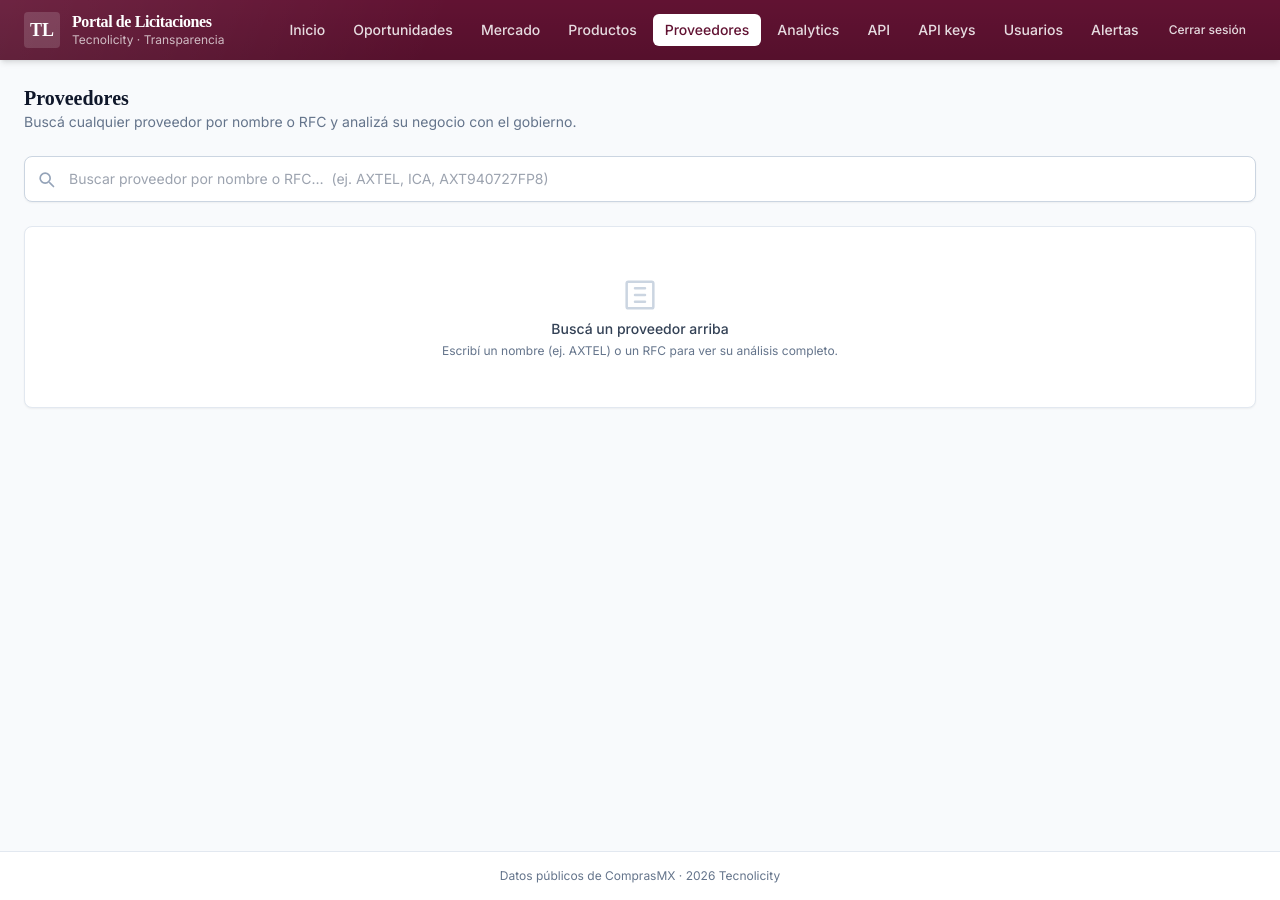
Test: SuppliersPage › searches and renders the full profile dashboard when a supplier is picked
# Type enough to pass the min-length gate + debounce.
Step 1. Type "axtel" into the field with placeholder "Buscar proveedor por nombre o RFC" → (640, 179), box 24,156 -> 1256,202
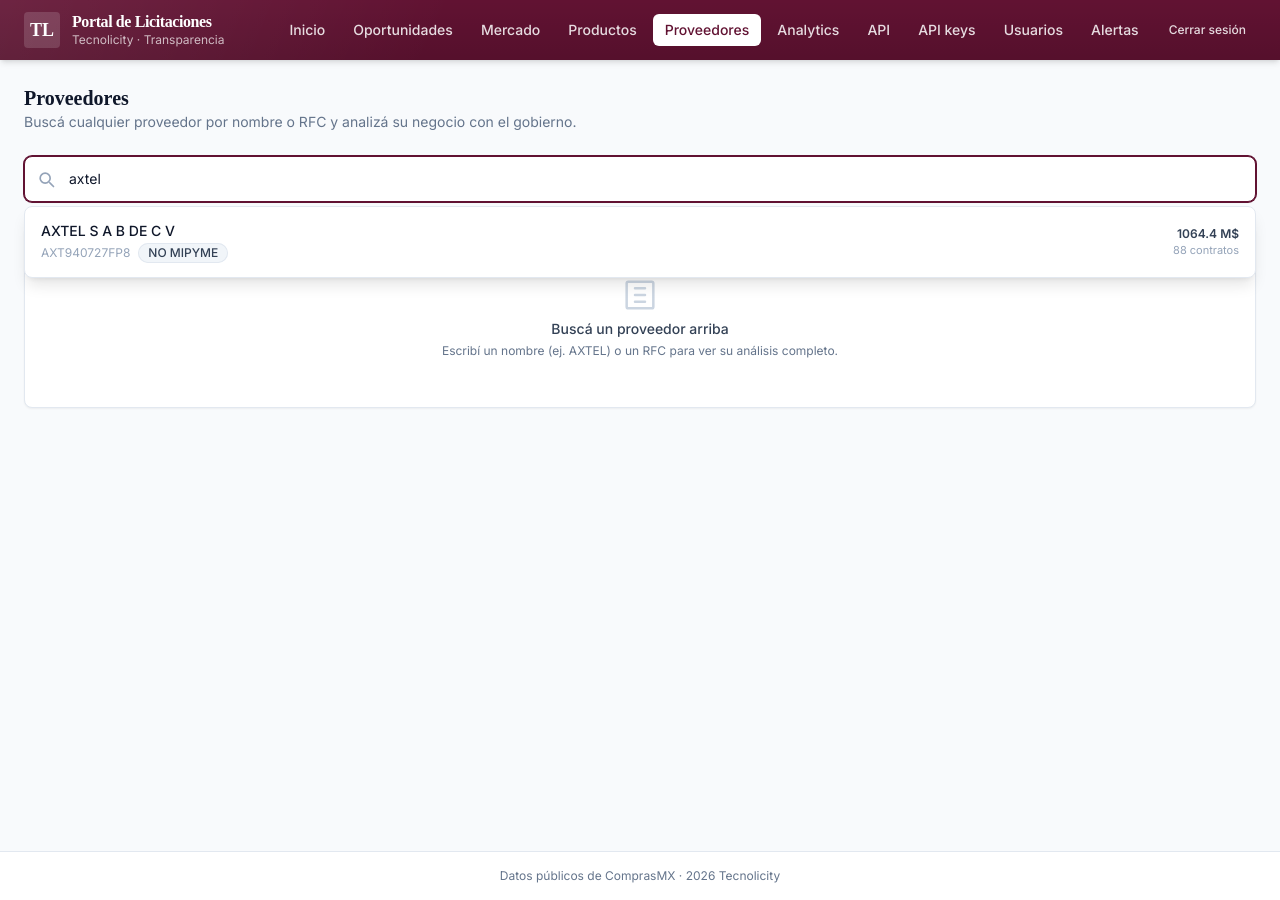
Now the text "AXTEL S A B DE C V" is shown, box 41,222 -> 175,239
Now the text "AXT940727FP8" is shown, box 41,245 -> 130,261
# Pick the supplier → profile loads.
Step 2. Click the button "AXTEL S A B DE C V" → (108, 230), box 25,211 -> 1255,273
(page scrolled)
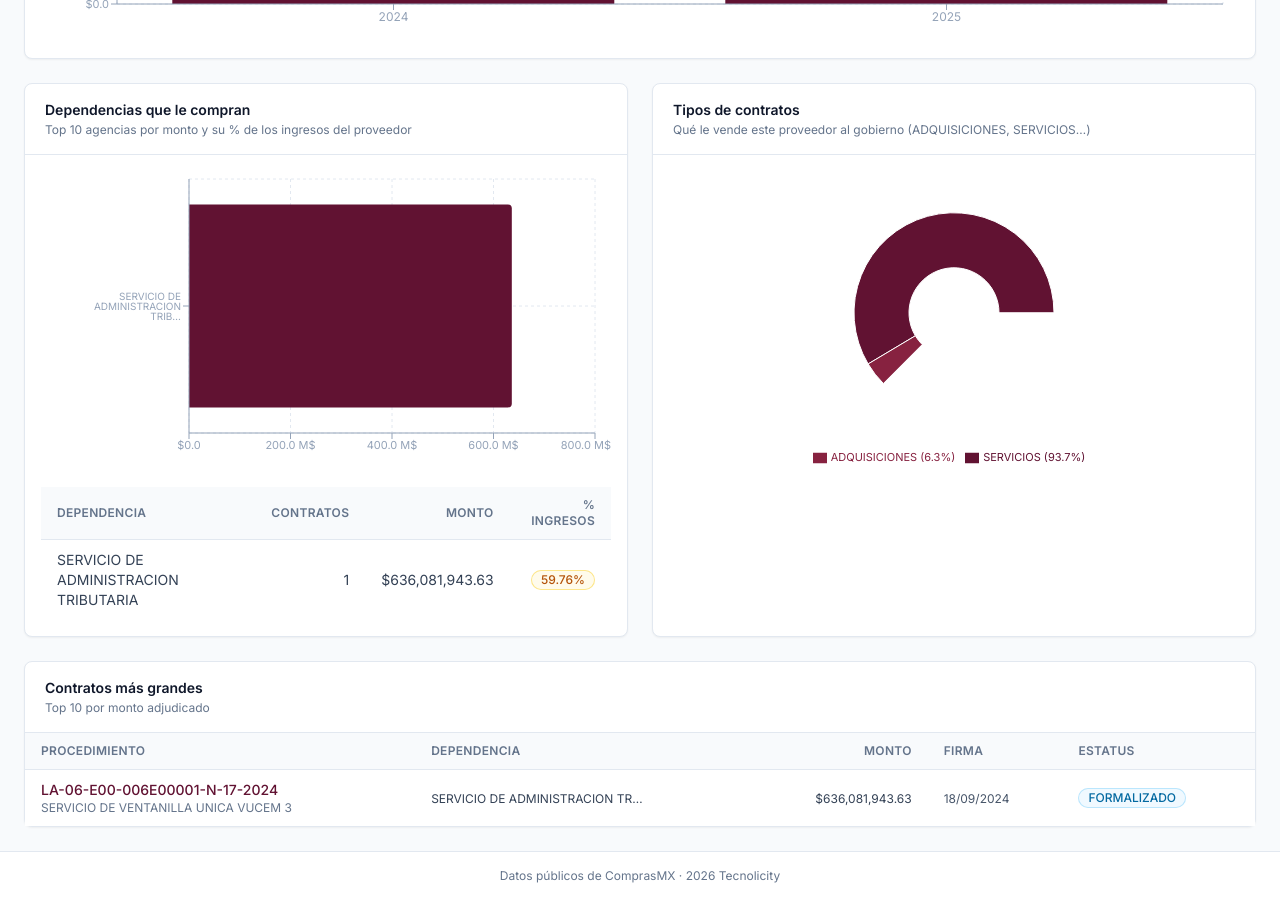
Now the heading "Dependencias que le compran" is shown, box 45,100 -> 250,118
Now the heading "Tipos de contratos" is shown, box 673,100 -> 800,118
Now the heading "Contratos más grandes" is shown, box 45,678 -> 210,698
